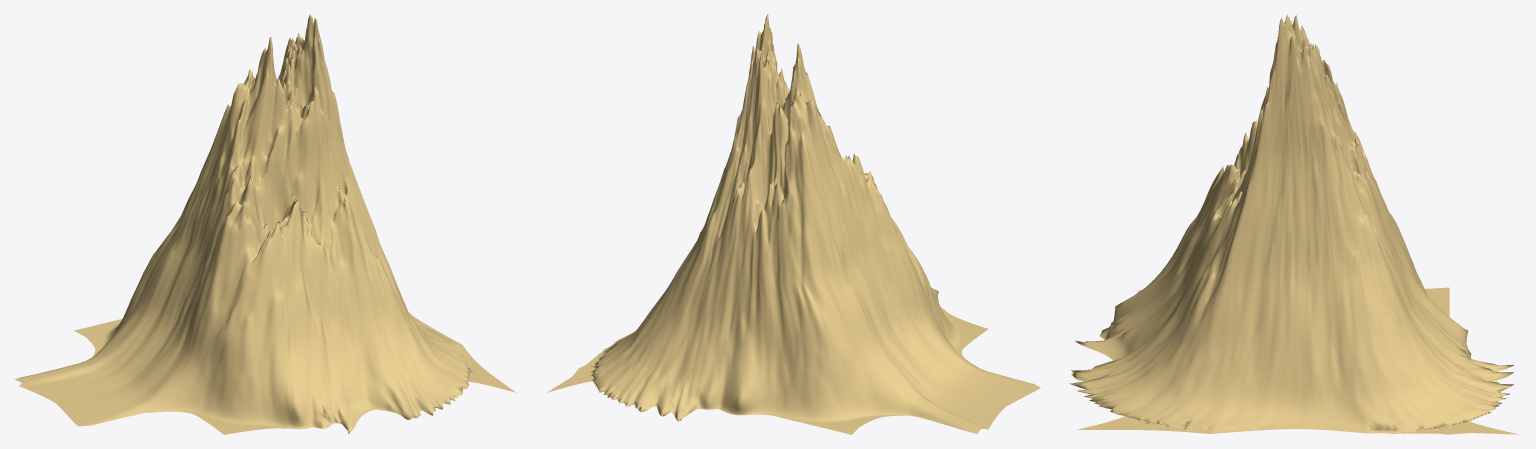
File: dom.glb
3 views of the same model, side by side, from view 1: azimuth 30°, elevation 25°; view 2: azimuth 150°, elevation 25°; view 3: azimuth 270°, elevation 25° (orthographic). The views are drawn at different scales.
Parts seen in each view (by area): view 1: Landscape; view 2: Landscape; view 3: Landscape.
Boxes of the visible parts, bbox=[...] form: Landscape: bbox=[14, 14, 515, 434]; Landscape: bbox=[546, 14, 1040, 434]; Landscape: bbox=[1069, 14, 1520, 434].
Bounding box in the file's own units: 3.01 × 2.56 × 2.92.
